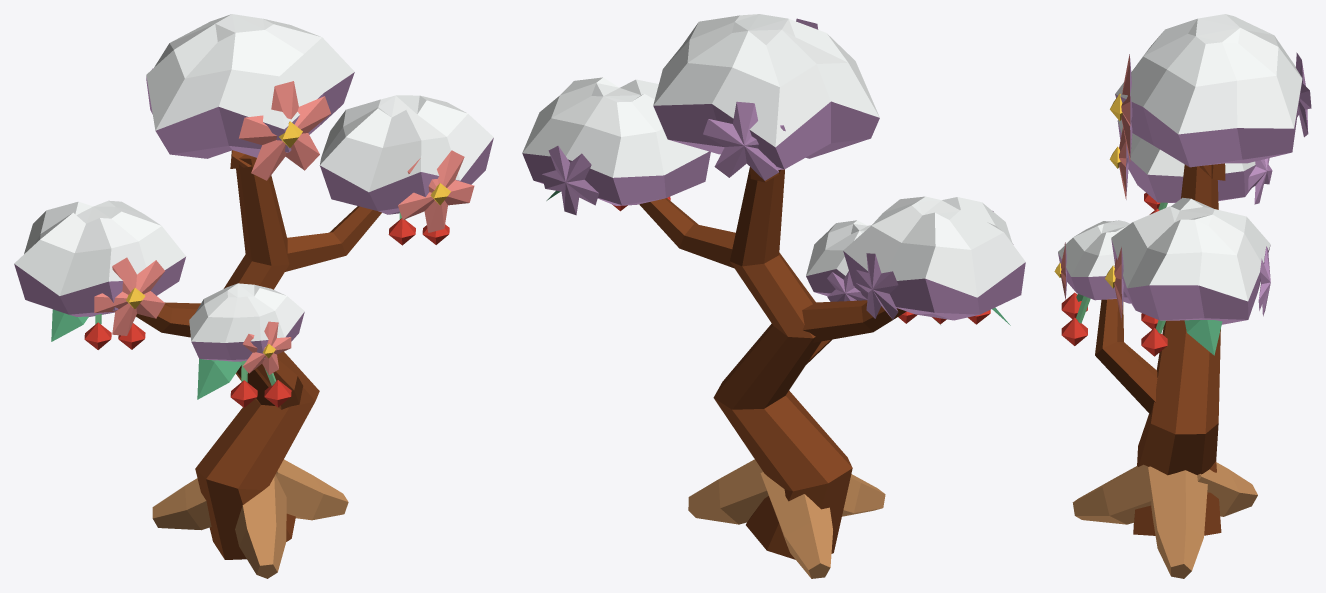
File: 28-northern-sakura.glb
3 views of the same model, side by side, from view 1: azimuth 30°, elevation 25°; view 2: azimuth 150°, elevation 25°; view 3: azimuth 270°, elevation 25° (orthographic). The views are drawn at different scales.
Parts seen in each view (by area): view 1: 28-northern-sakura_Body; view 2: 28-northern-sakura_Body; view 3: 28-northern-sakura_Body.
Boxes of the visible parts, x1,y1,x2,y2 form: 28-northern-sakura_Body: (14, 14, 493, 578); 28-northern-sakura_Body: (522, 14, 1025, 578); 28-northern-sakura_Body: (1054, 14, 1311, 578).
Bounding box in the file's own units: 0.7504 × 0.7998 × 0.3548.
Materials: 1 (1 with a texture image).
